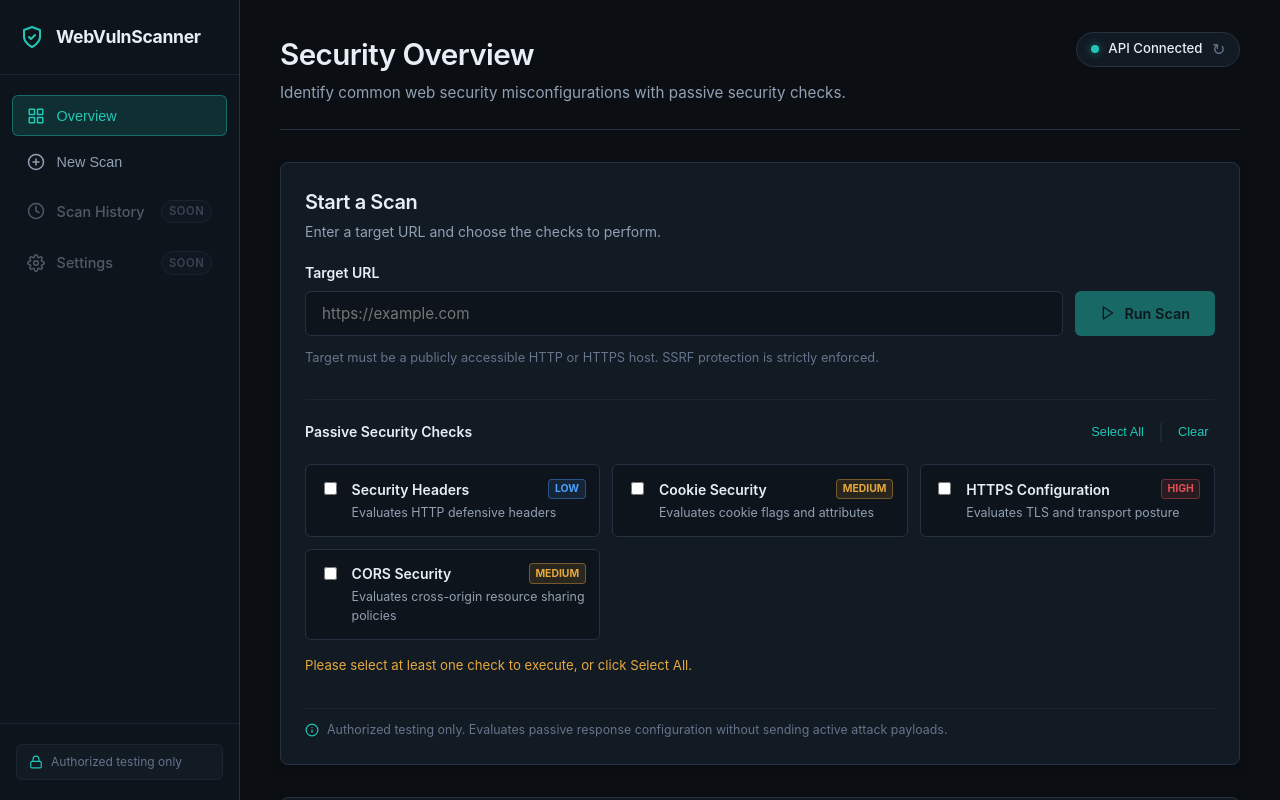
WebVulnScanner UI Integration › 9. displays empty-findings state when scan identifies zero weaknesses
The image size is (1280, 800).
Expected: the text "Security Headers" is shown, 352,479 -> 469,500
Type "https://secure-target.com" into the field with test id "target-url-input" at point(684, 313), box 305,291 -> 1063,336
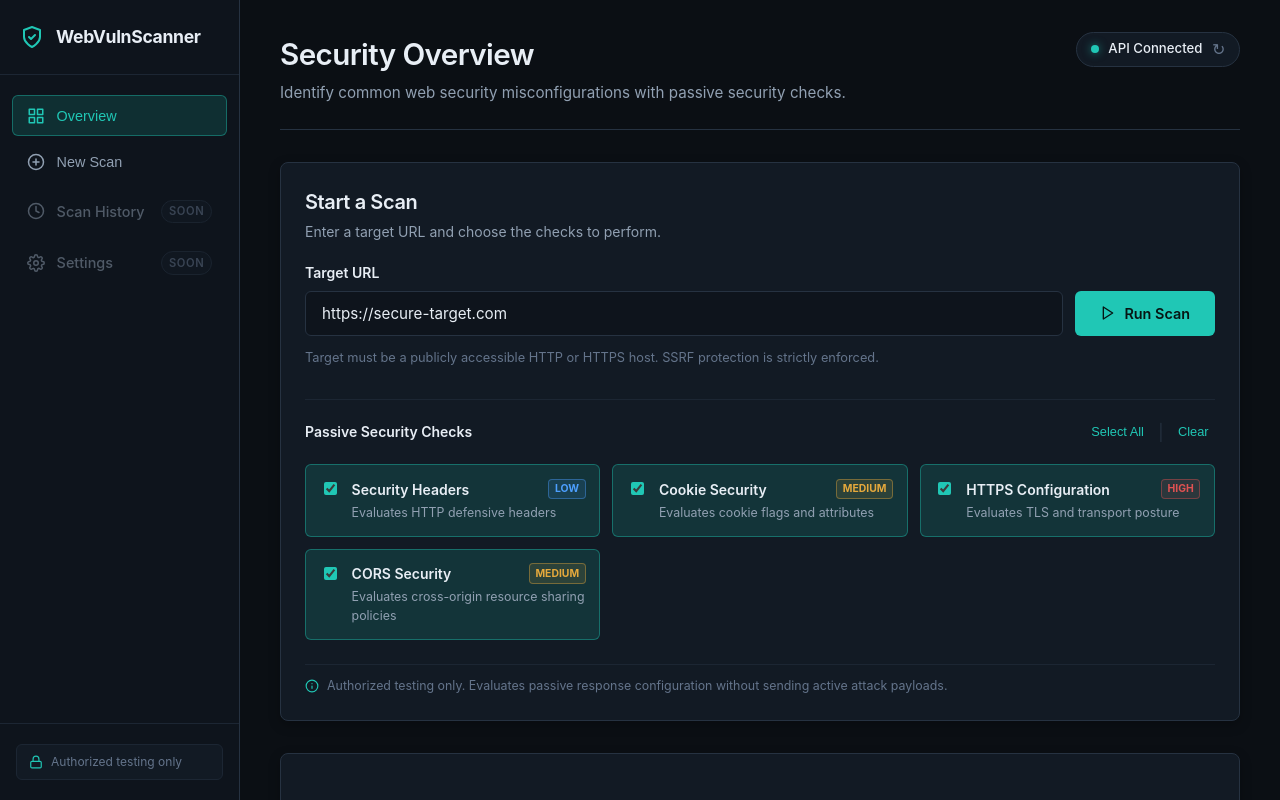
Click the button with test id "run-scan-button" at point(1145, 313), box 1075,291 -> 1215,336
(page scrolled)
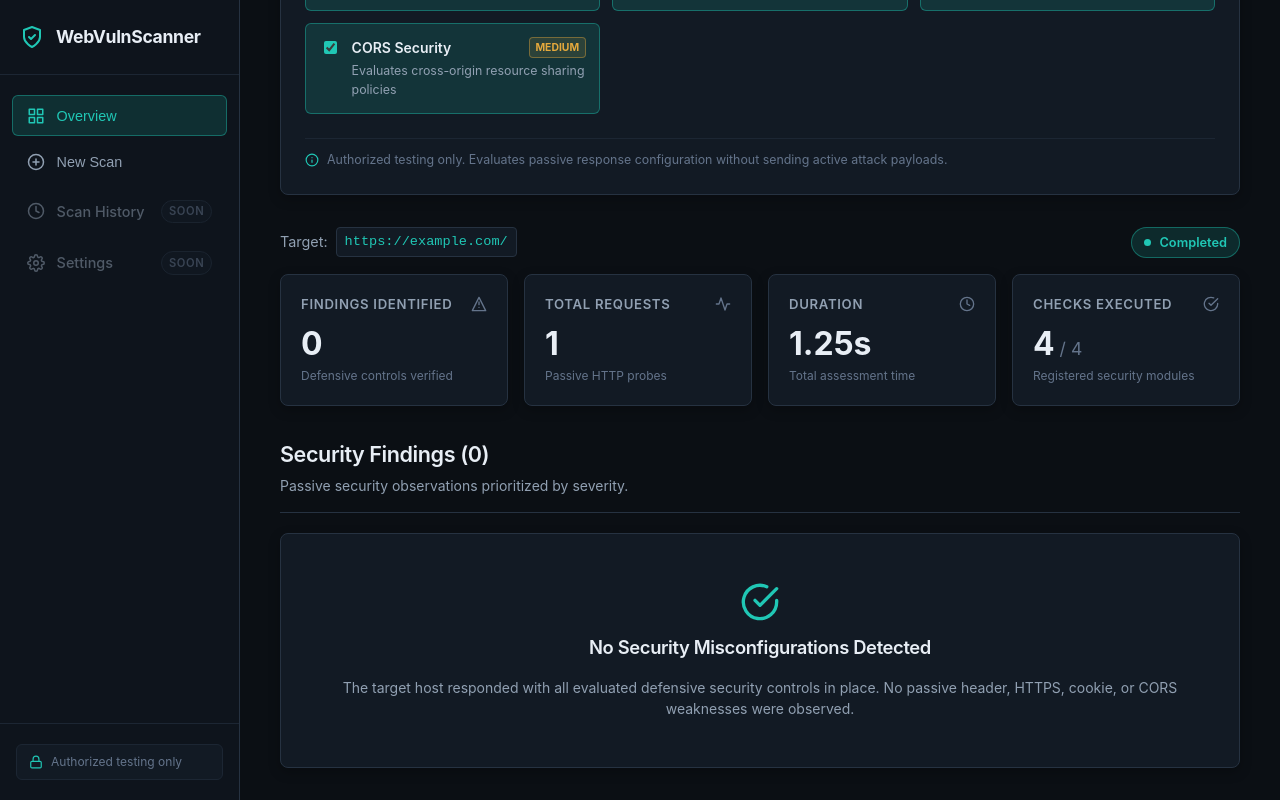
Now the element with test id "findings-empty" is shown, box 280,532 -> 1240,768
Now the heading "No Security Misconfigurations Detected" is shown, box 589,634 -> 931,661
